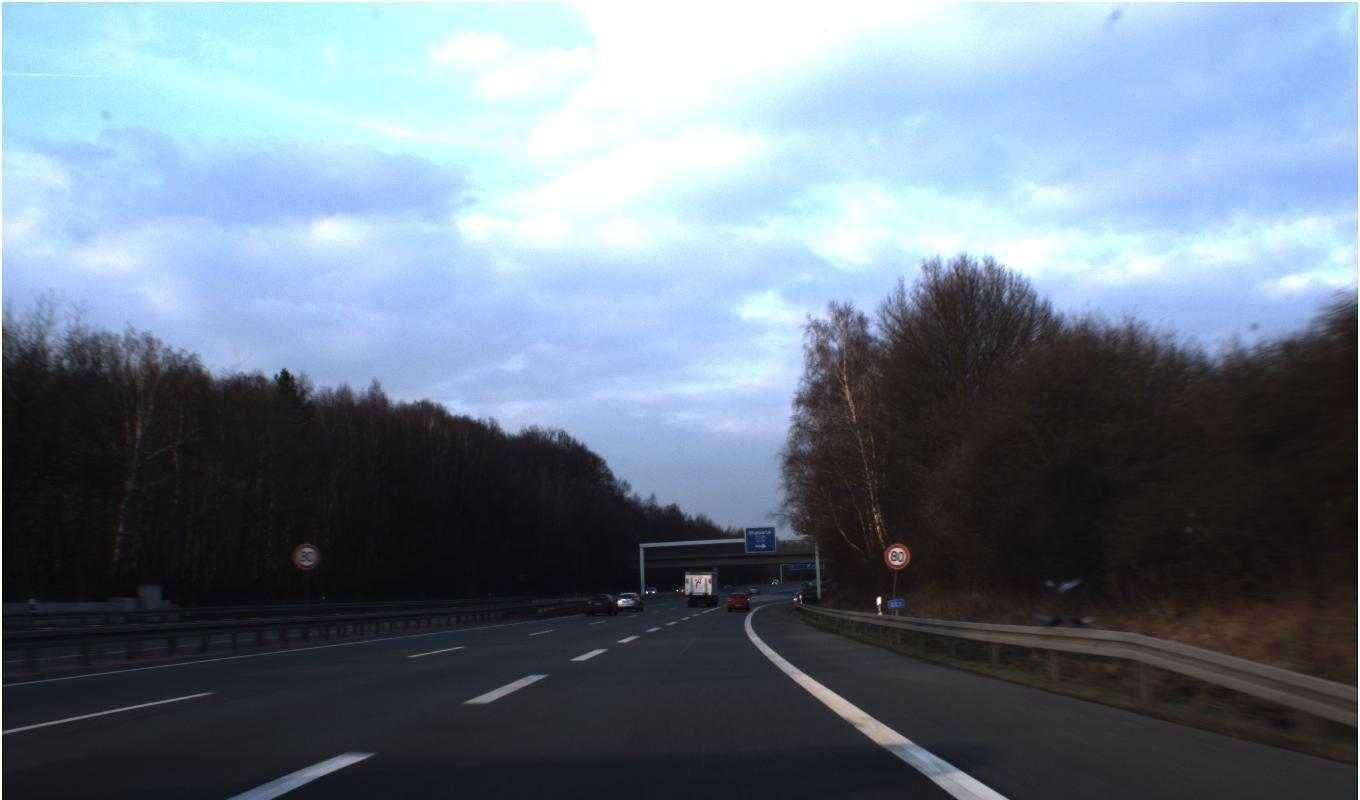speed limit 80 prohibitory: (291, 541, 321, 571), (883, 542, 911, 570)
